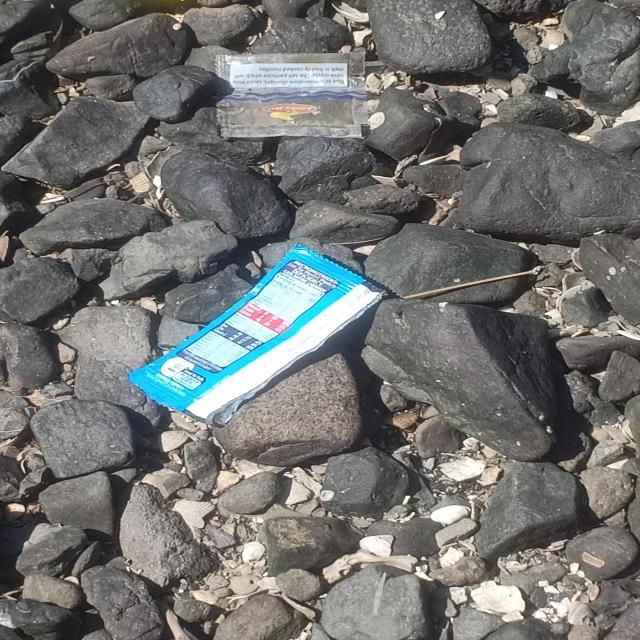plastic_waste: (127, 243, 392, 429), (215, 52, 374, 141)
